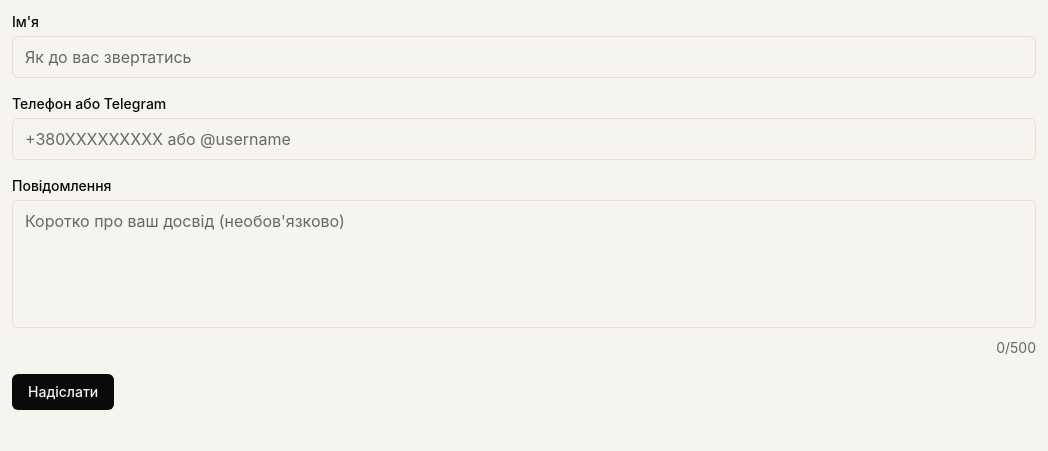
ApplicationForm › validates a single field on blur
Step 1. Click the field labelled "Ім'я" → coordinates (524, 57), box [12,36,1036,78]
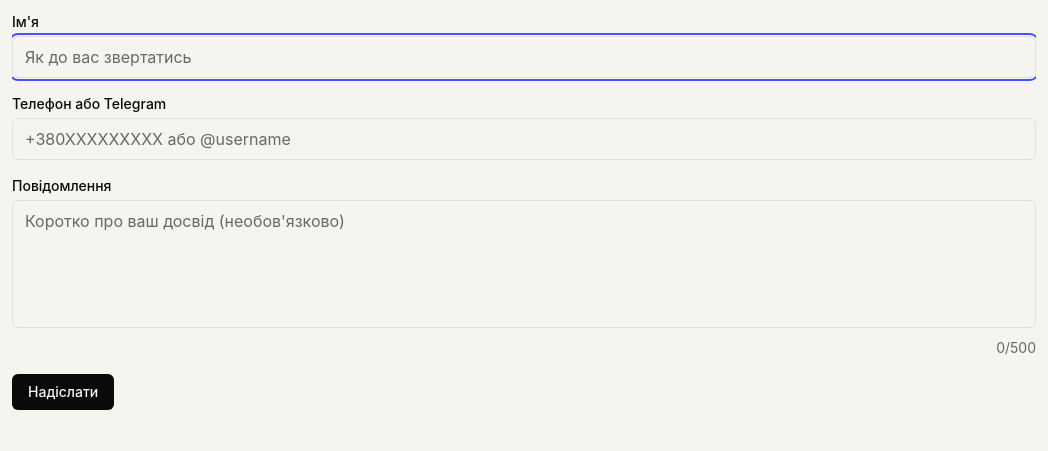
Step 2. Press Tab
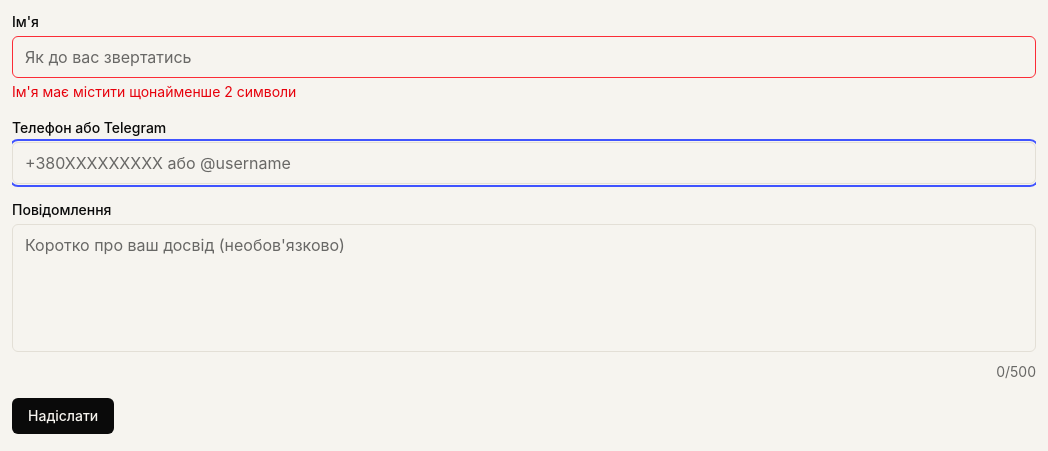
Result: the text "Ім'я має містити щонайменше 2 символи" is shown at [12,82,296,102]
